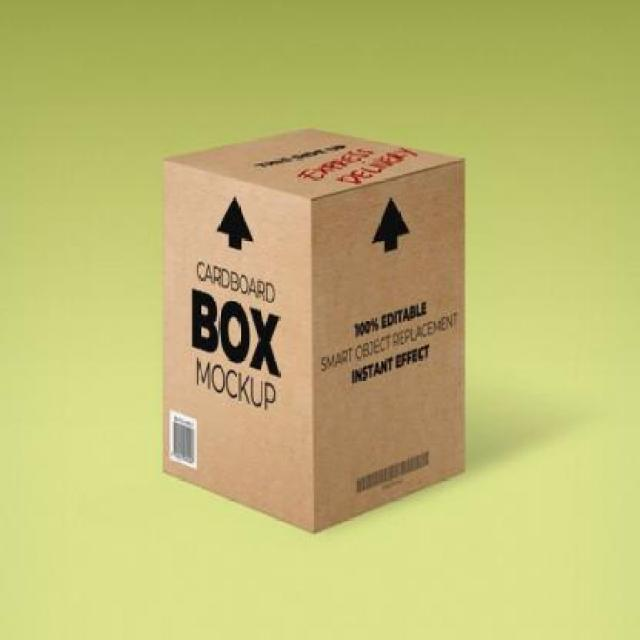box: (163, 121, 473, 538)
